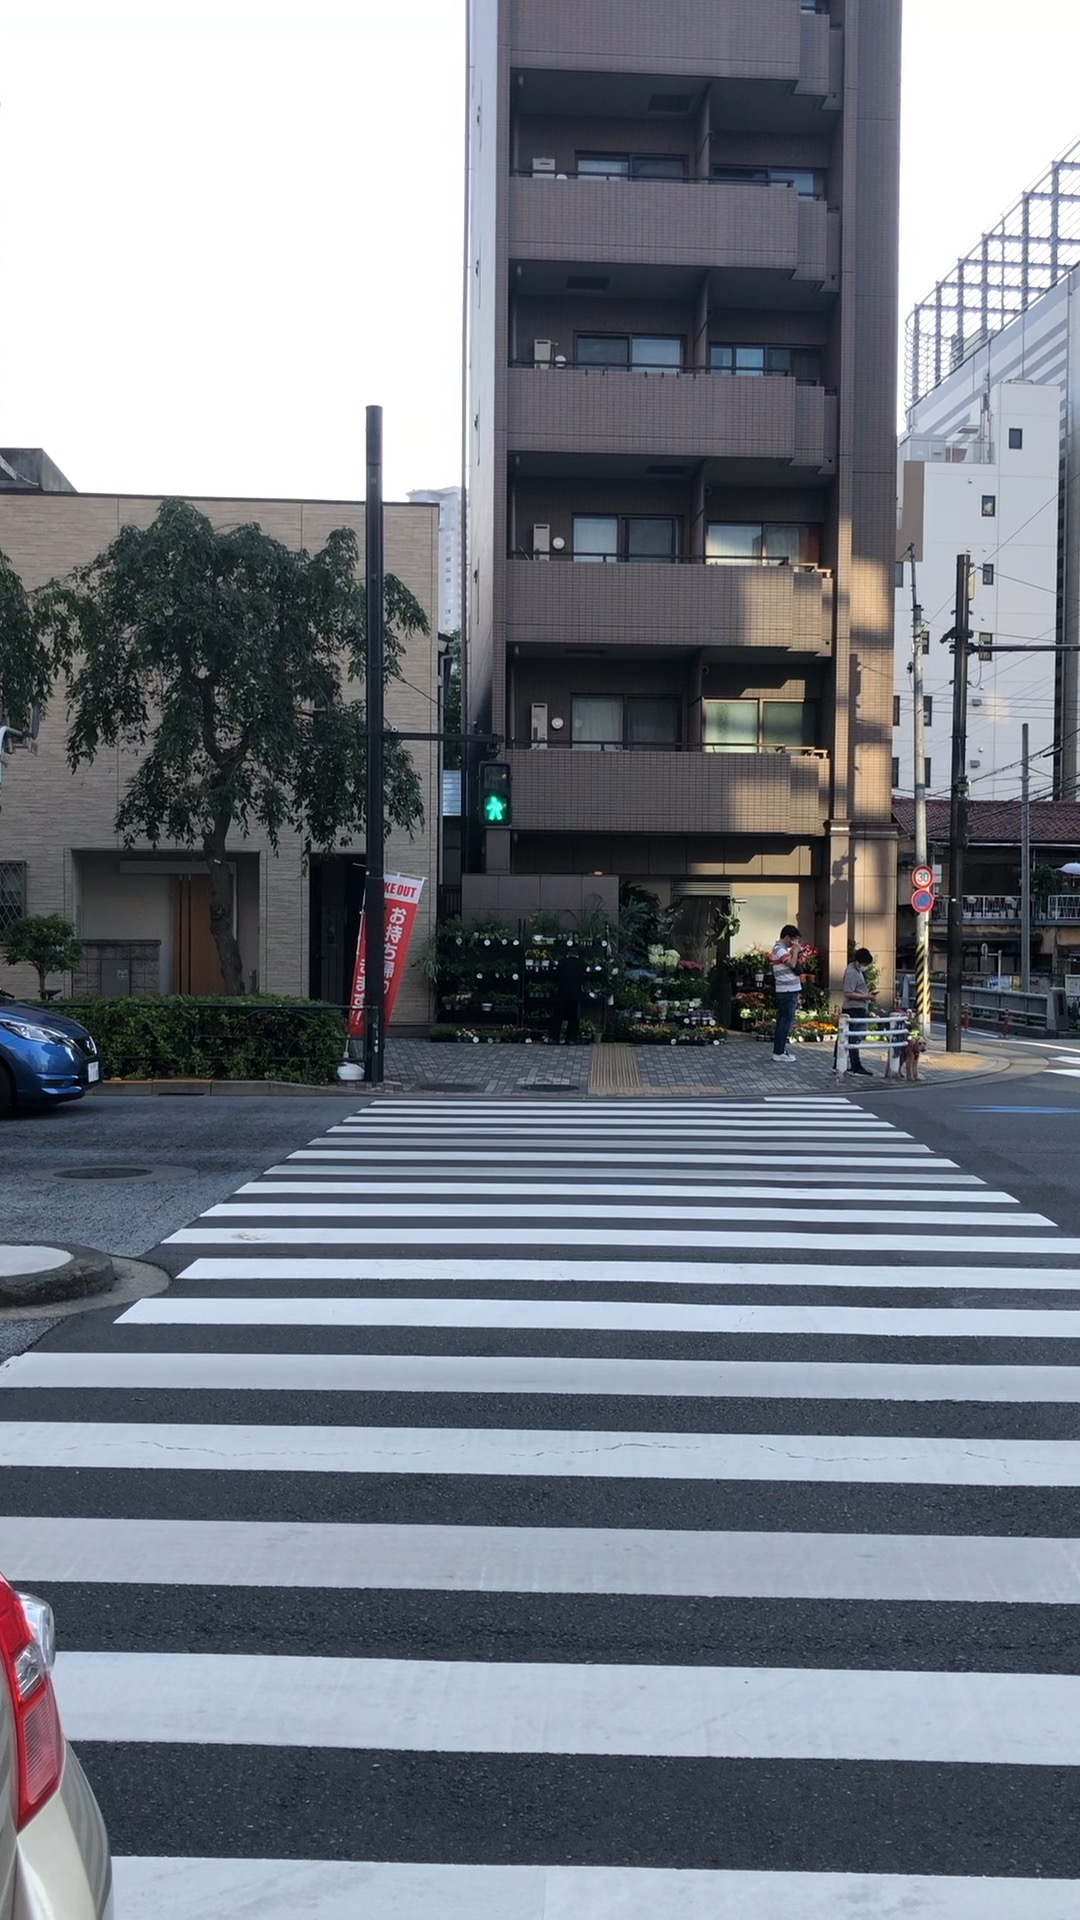green: (473, 760, 512, 825)
